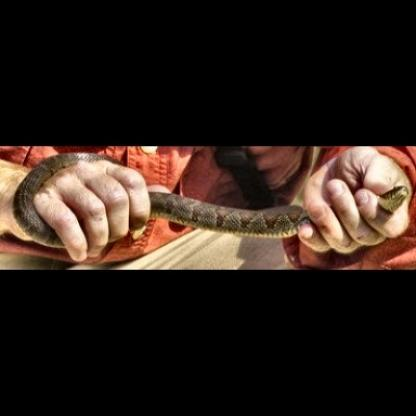Snake: (11, 140, 404, 258)
